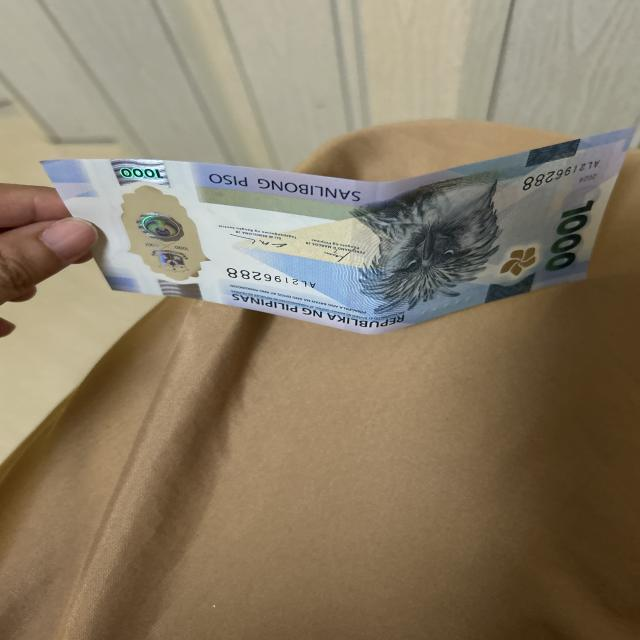clear_window: (123, 182, 211, 284)
eagle: (357, 196, 495, 300)
sampaguita: (500, 249, 542, 277)
